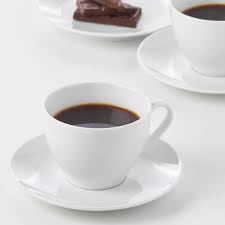cup: (33, 79, 181, 193)
